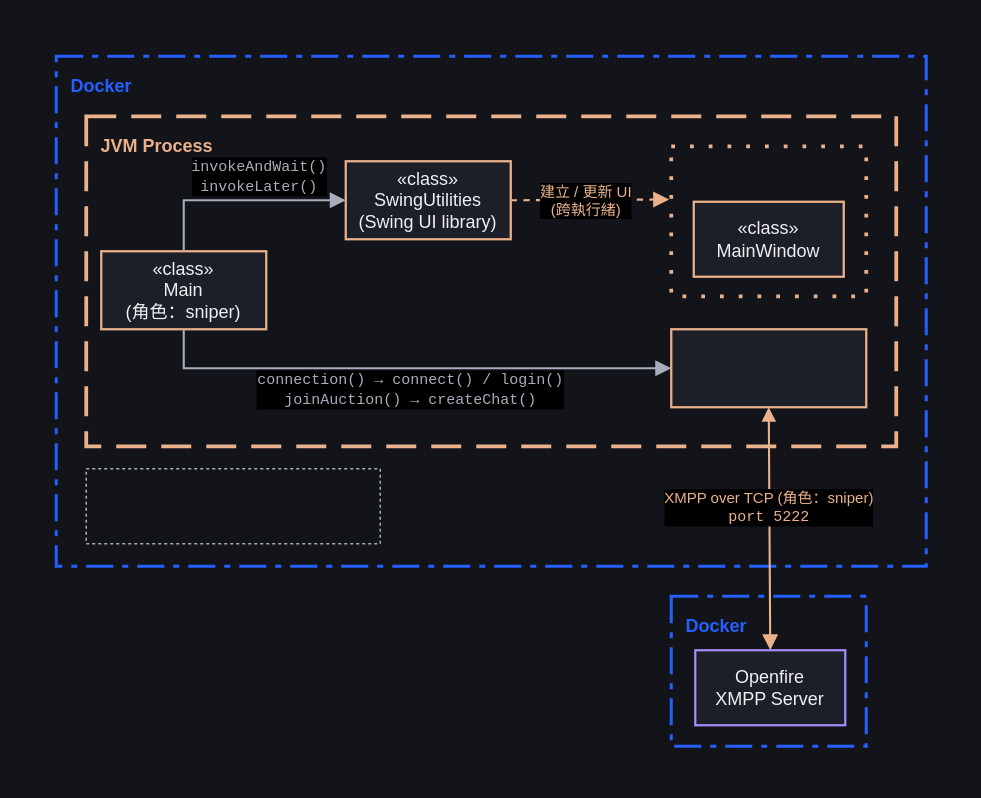
Some shapes in this 981 by 798 pixel diagram are drawn without their labels. The box of each missing label's shape, as (x1, y1, x2, y2) in pixels:
docker/scripts/run-app.sh ： javac 編譯 src/ 後 java -cp ... auctionsniper.Main: (85, 467, 380, 544)
Swing EDT Thread: (669, 144, 867, 297)
«class» XMPPConnection (Smack library): (669, 327, 867, 408)
